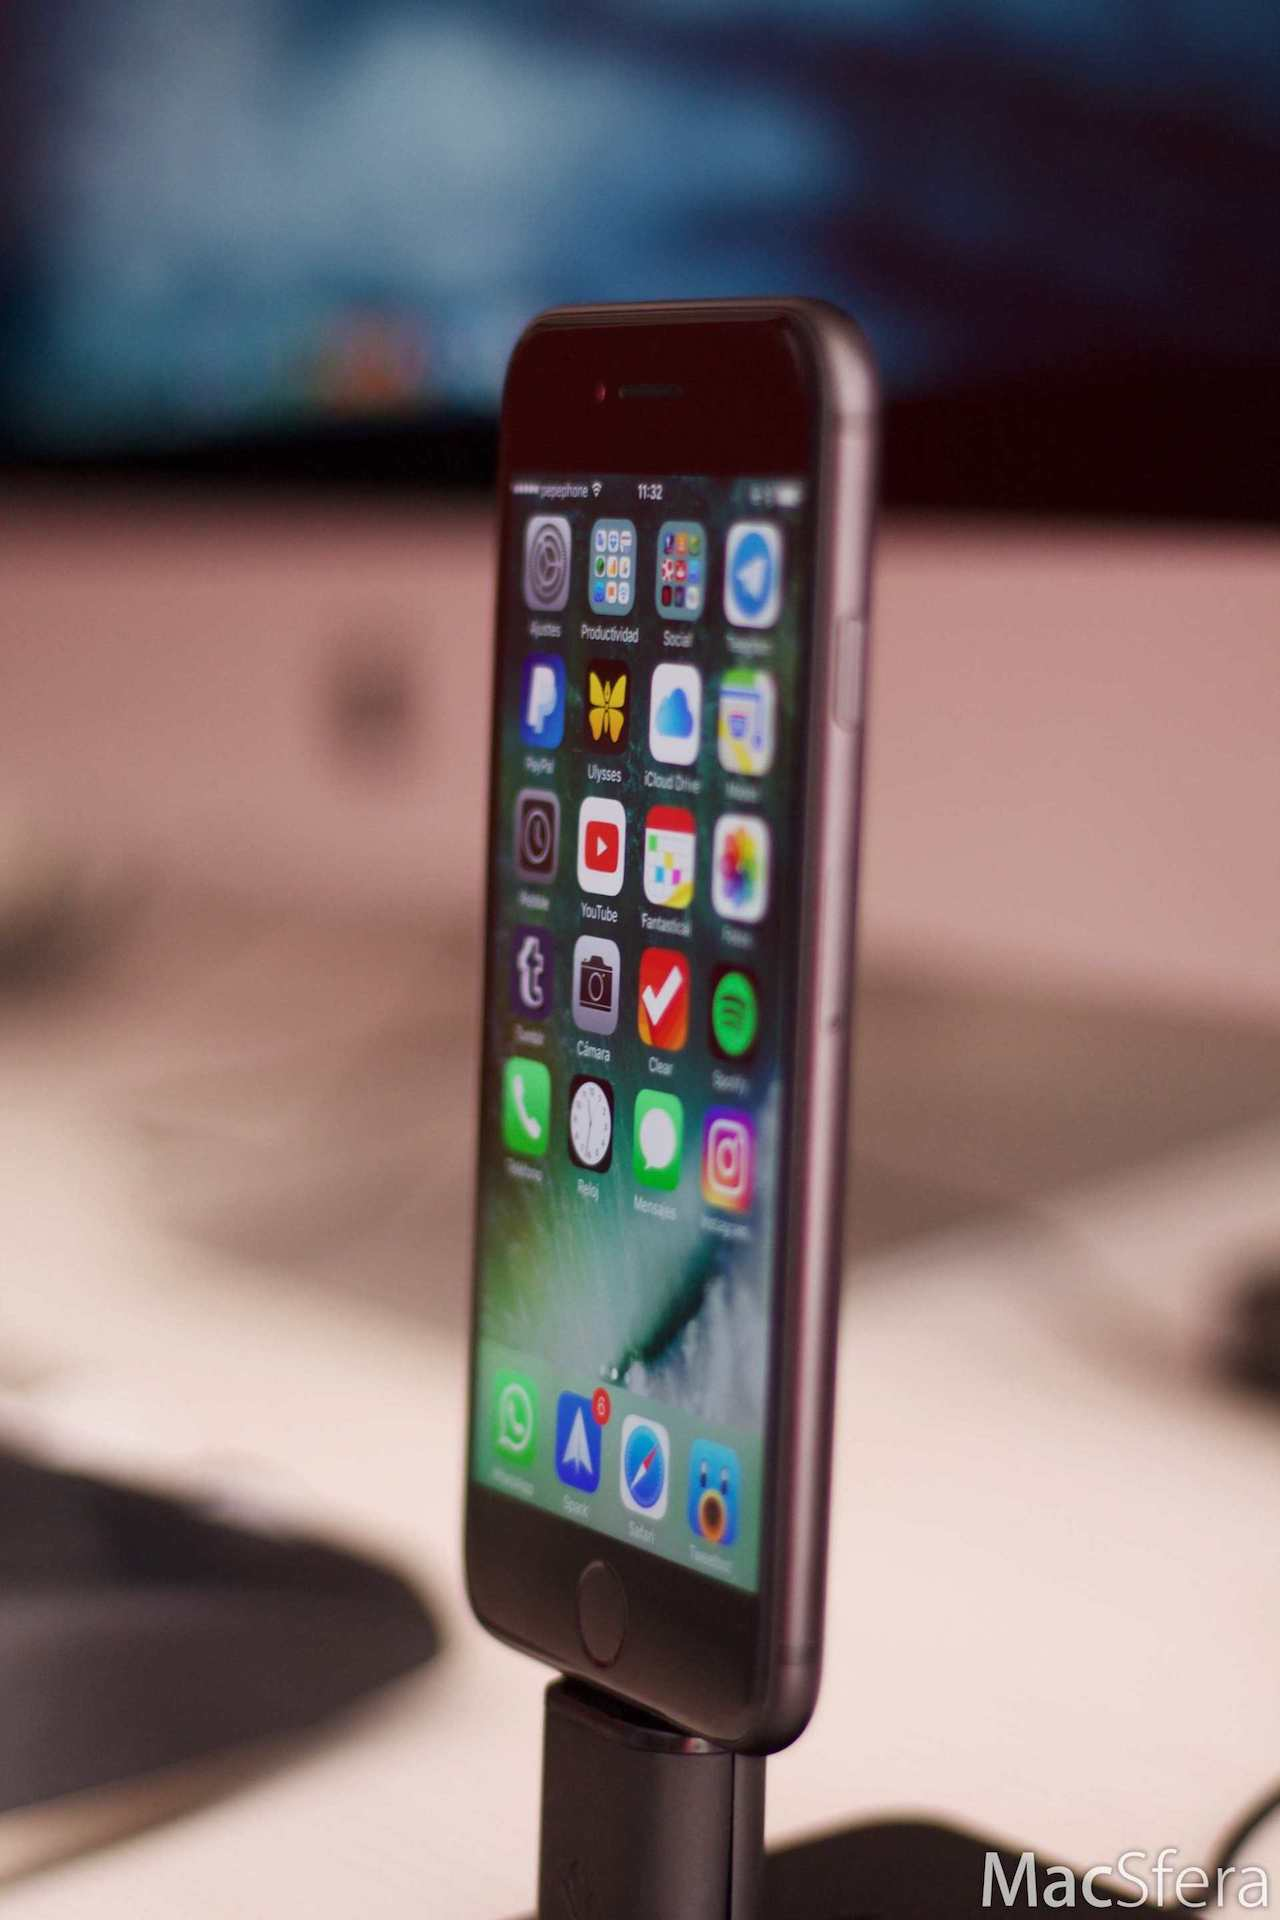smartphone: (464, 296, 886, 1763)
